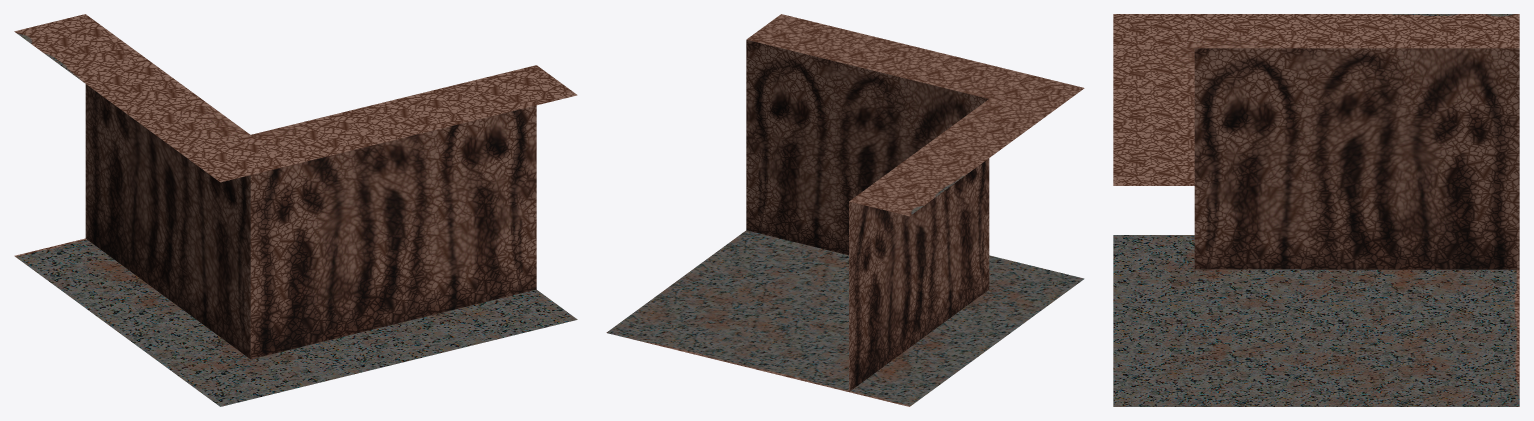
Rendered from Wall_Turn_No_Edge.fbx.
The picture shows the model from 3 angles, left to right: view 1: azimuth 30°, elevation 25°; view 2: azimuth 150°, elevation 25°; view 3: azimuth 270°, elevation 25°; orthographic projection. The views are drawn at different scales.
Visible parts, largest first — view 1: Wall_Turn_No_Edge; view 2: Wall_Turn_No_Edge; view 3: Wall_Turn_No_Edge.
Part boxes in pixels (bbox=[...]): Wall_Turn_No_Edge: bbox=[14, 14, 577, 406]; Wall_Turn_No_Edge: bbox=[606, 14, 1084, 406]; Wall_Turn_No_Edge: bbox=[1113, 14, 1519, 406].
Size of the model in its own units: 100 by 60 by 100.
Materials: 1 (1 with a texture image).
